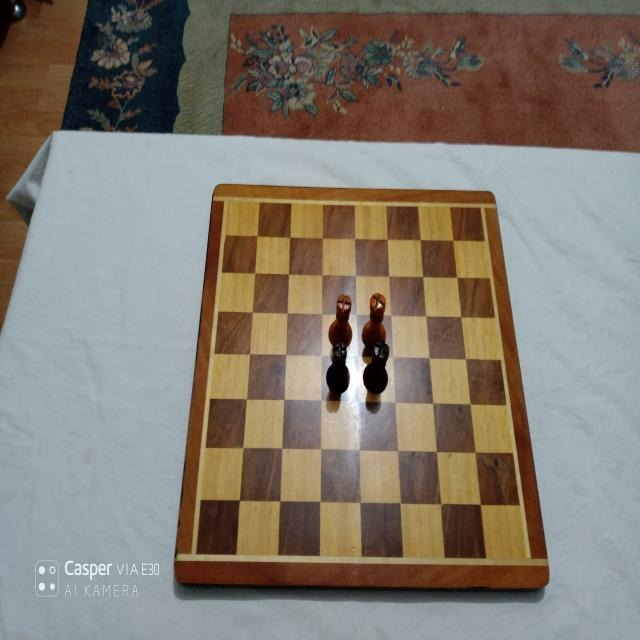black-rook: (362, 339, 389, 394), (325, 340, 350, 392)
white-rook: (361, 291, 387, 349), (327, 293, 352, 347)
